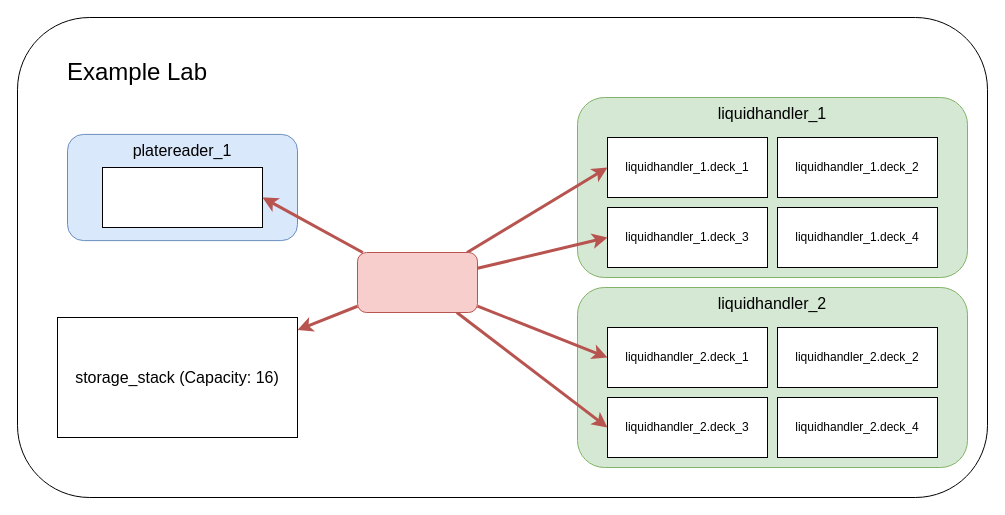
Some shapes in this 1005 by 515 pixel diagram are drawn without their labels. The box of each missing label's shape, as (x1, y1, x2, y2) in pixels:
platereader_1.carriage: (102, 166, 262, 228)
robotarm_1: (356, 252, 478, 312)
